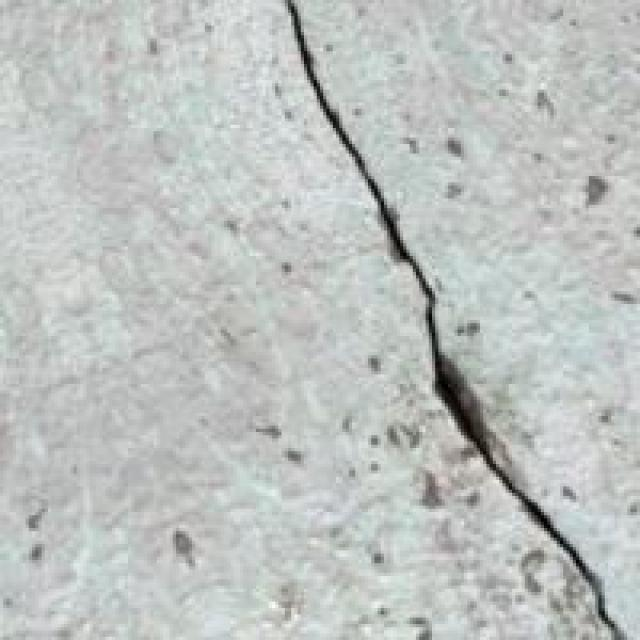crack: (285, 0, 637, 637)
